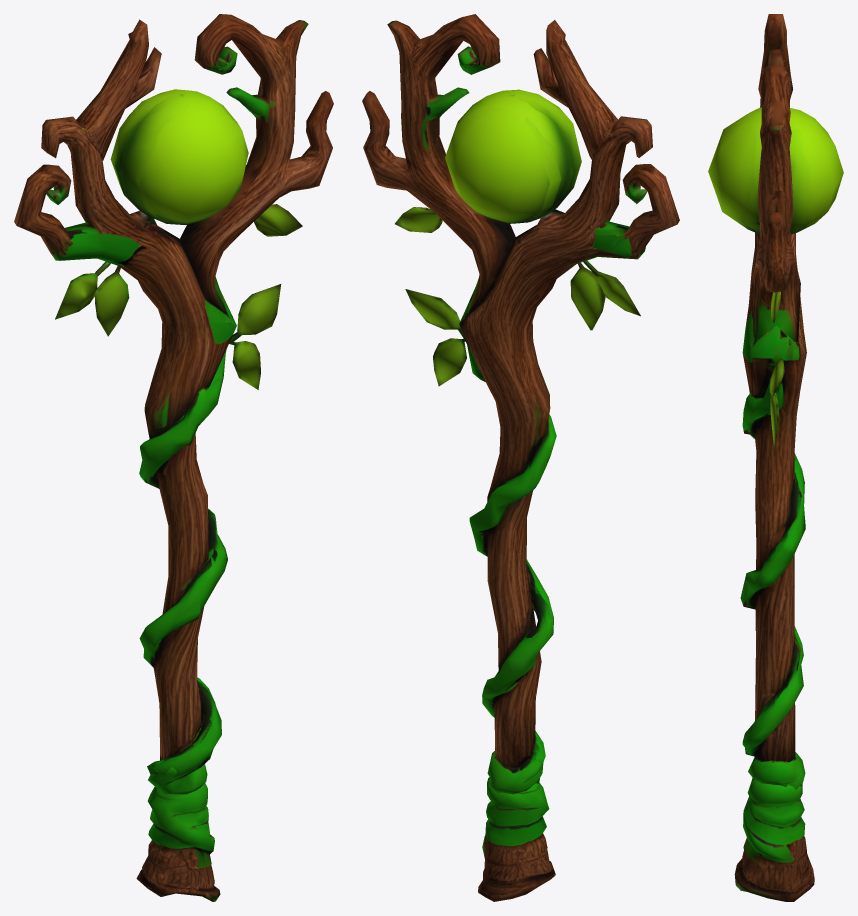
File: DruidStaff.fbx
3 views of the same model, side by side, from view 1: azimuth 30°, elevation 25°; view 2: azimuth 150°, elevation 25°; view 3: azimuth 270°, elevation 25° (orthographic). The views are drawn at different scales.
Parts seen in each view (by area): view 1: Druid; view 2: Druid; view 3: Druid.
Boxes of the visible parts, x1,y1,x2,y2 form: Druid: (14,14,333,901); Druid: (362,14,679,901); Druid: (708,14,843,901).
Bounding box in the file's own units: 40.2 × 108 × 15.47.
Materials: 1 (1 with a texture image).
